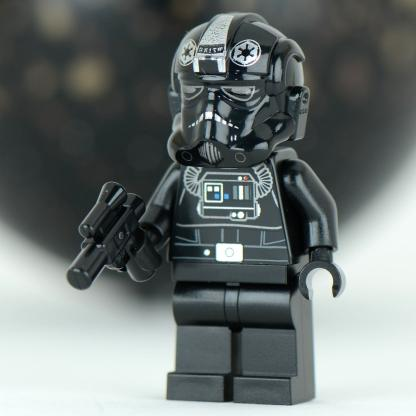Helmet: (160, 10, 312, 171)
